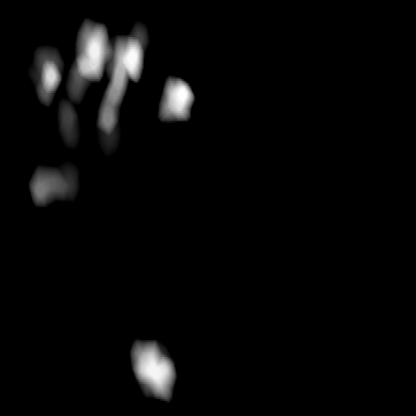fingers: (128, 337, 174, 401)
palm: (31, 22, 188, 141)
